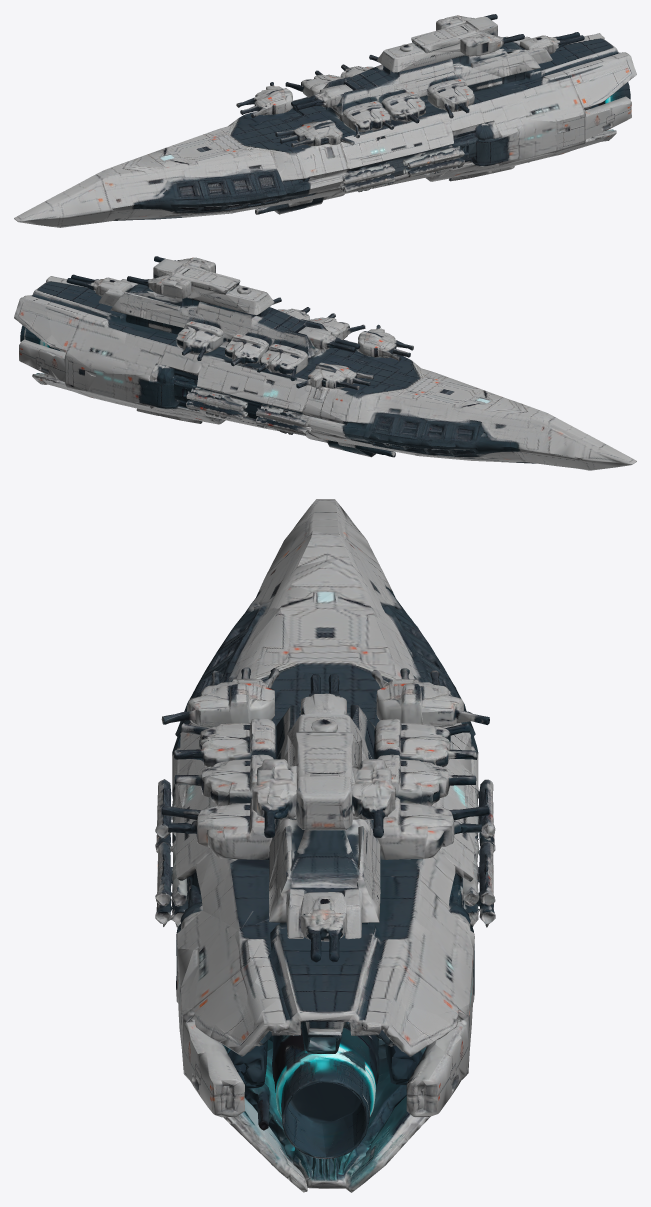
Rendered from warp_battleship.glb.
The picture shows the model from 3 angles, top to bottom: view 1: azimuth 30°, elevation 25°; view 2: azimuth 150°, elevation 25°; view 3: azimuth 270°, elevation 25°; orthographic projection. The views are drawn at different scales.
Visible parts, largest first — view 1: Mesh_0; view 2: Mesh_0; view 3: Mesh_0.
Part boxes in pixels (x1=…): Mesh_0: x1=14, y1=14, x2=636, y2=227; Mesh_0: x1=14, y1=256, x2=636, y2=470; Mesh_0: x1=155, y1=499, x2=495, y2=1192.
Size of the model in its own units: 1 by 0.2309 by 0.2441.
Materials: 1 (1 with a texture image).
